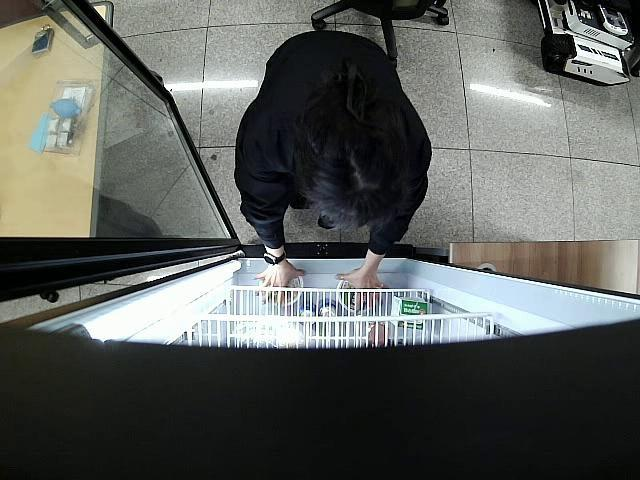09_yukGaeJang: (260, 270, 302, 308), (336, 276, 371, 313)
